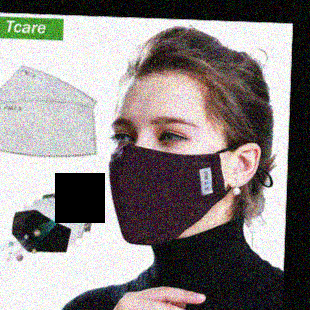with_mask: (106, 113, 227, 250)
